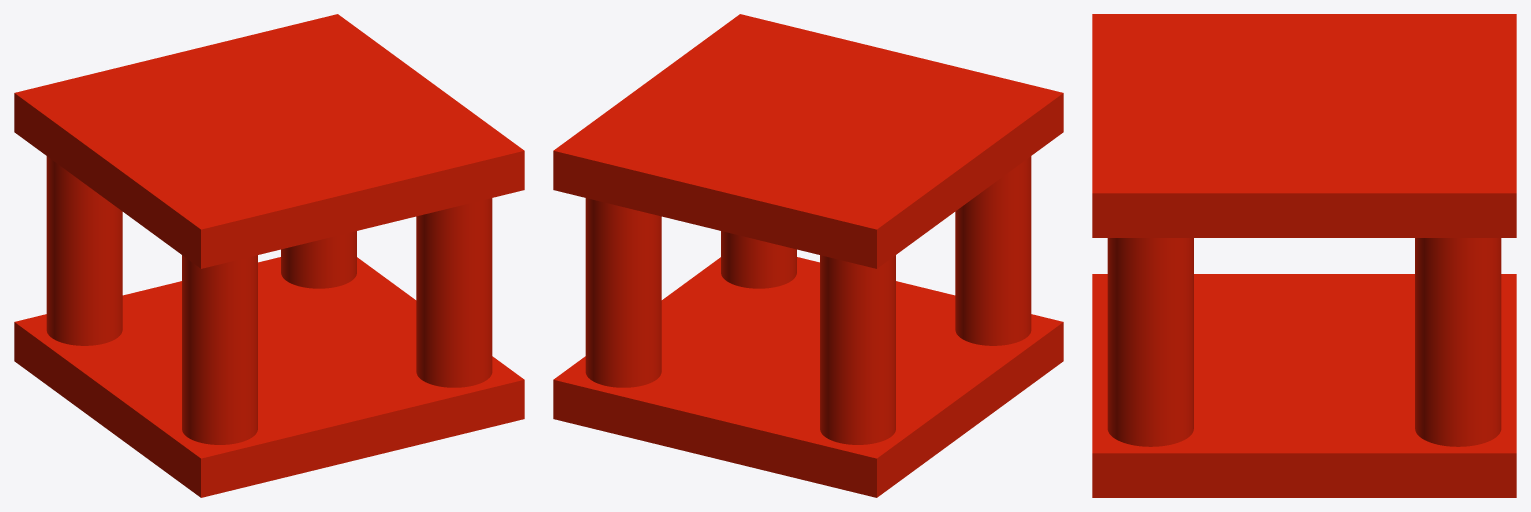
File: building-1.glb
3 views of the same model, side by side, from view 1: azimuth 30°, elevation 25°; view 2: azimuth 150°, elevation 25°; view 3: azimuth 270°, elevation 25° (orthographic). The views are drawn at different scales.
Visible parts, largest first — view 1: building-1; view 2: building-1; view 3: building-1.
Part boxes in pixels (bbox=[...]): building-1: bbox=[14, 14, 524, 497]; building-1: bbox=[553, 14, 1063, 497]; building-1: bbox=[1092, 14, 1516, 497].
Size of the model in its own units: 14.01 by 11.1 by 14.01.
